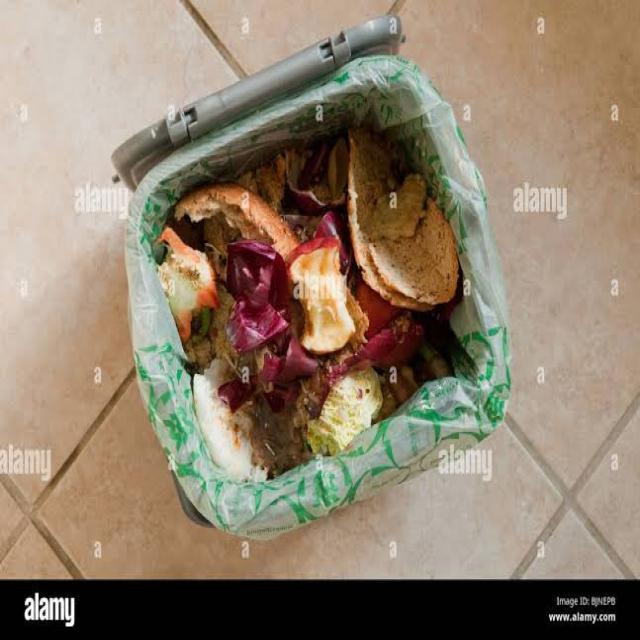Wet: (348, 125, 460, 313), (215, 238, 319, 414), (285, 237, 357, 354), (155, 226, 221, 342), (305, 364, 384, 454), (326, 315, 426, 375)
